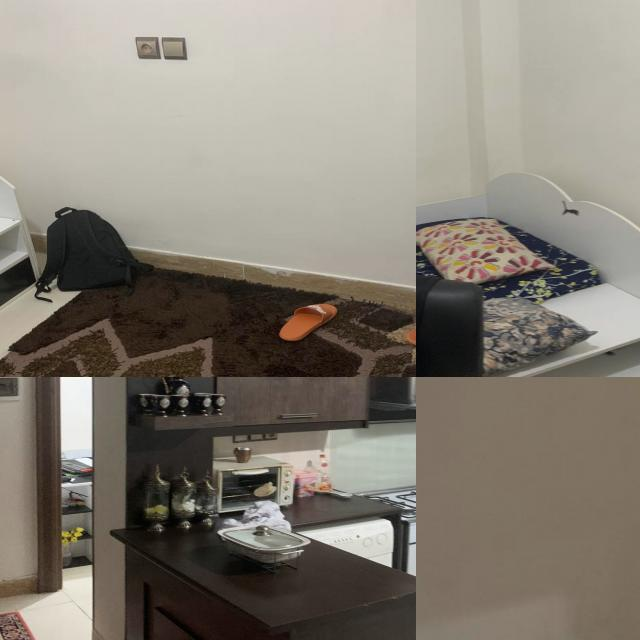Floor: (0, 282, 68, 362), (18, 568, 92, 640)
Wall: (416, 377, 640, 640), (56, 377, 94, 469)
